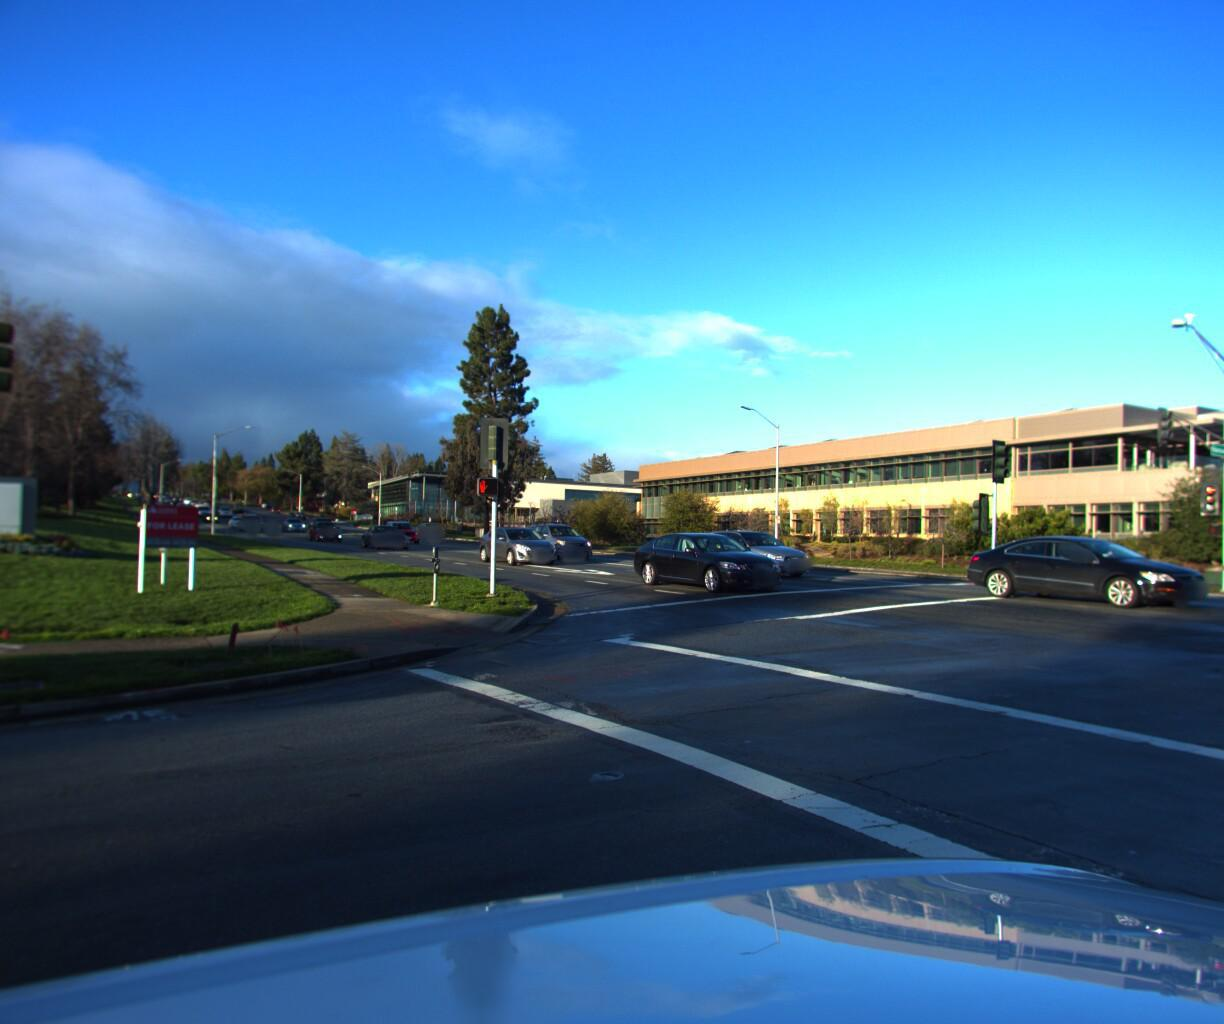car: (957, 530, 1221, 609), (625, 530, 789, 594), (692, 526, 816, 575), (472, 522, 566, 564), (519, 521, 599, 559), (363, 520, 417, 548), (385, 518, 427, 543), (308, 516, 346, 538), (414, 521, 448, 538)
